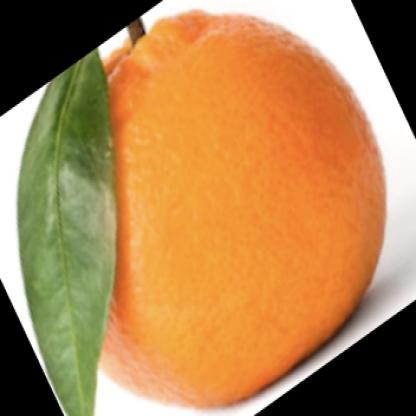fresh: (51, 10, 384, 410)
